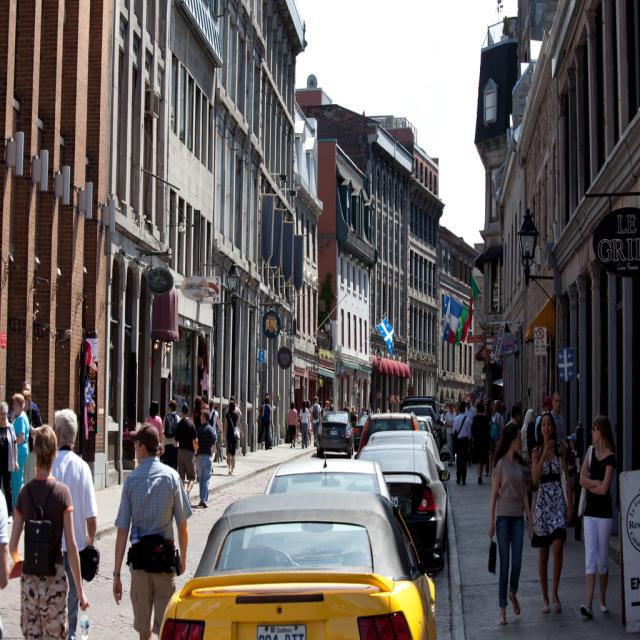car: (318, 402, 353, 454)
